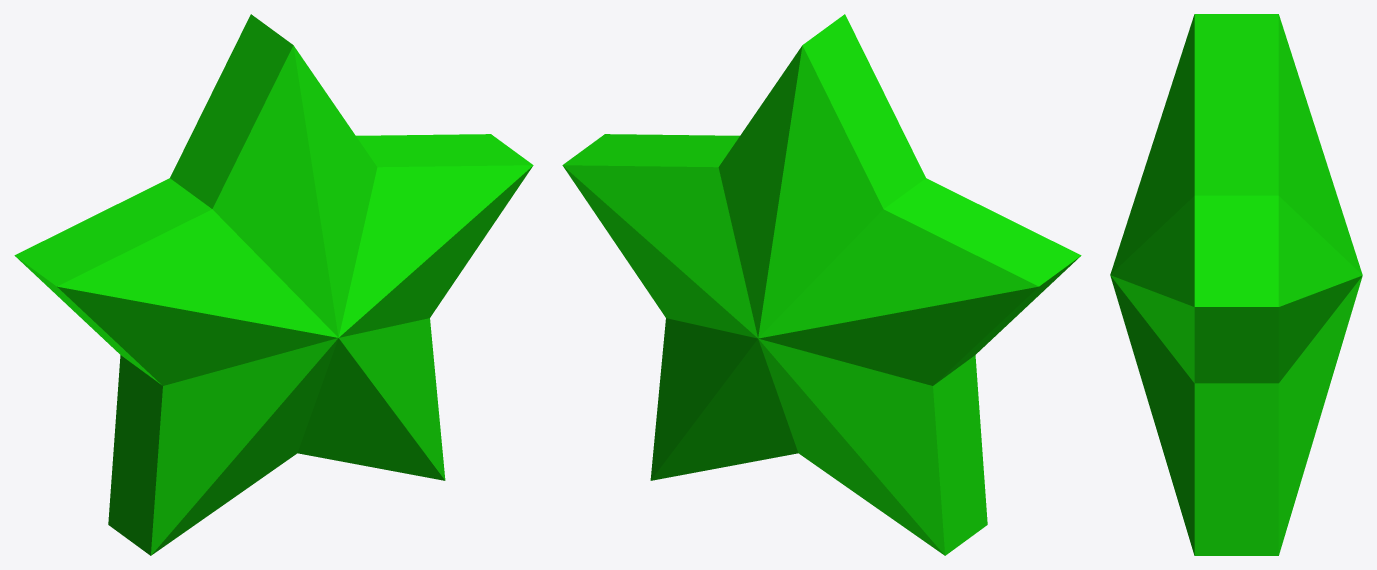
File: estrella verde.glb
The picture shows the model from 3 angles, left to right: view 1: azimuth 30°, elevation 25°; view 2: azimuth 150°, elevation 25°; view 3: azimuth 270°, elevation 25°; orthographic projection.
Parts seen in each view (by area): view 1: Cylinder; view 2: Cylinder; view 3: Cylinder.
Part boxes in pixels (box(x1,y1,x2,y2)): Cylinder: box(14, 14, 533, 555); Cylinder: box(562, 14, 1081, 555); Cylinder: box(1110, 14, 1362, 555).
Size of the model in its own units: 1.9 by 1.81 by 0.881.
